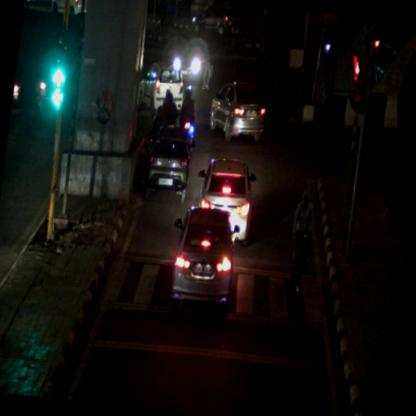car: (166, 206, 240, 316), (189, 156, 258, 246), (206, 79, 269, 146), (147, 122, 194, 203), (138, 60, 186, 116)
motorcycle: (176, 82, 202, 148), (11, 45, 27, 106)
